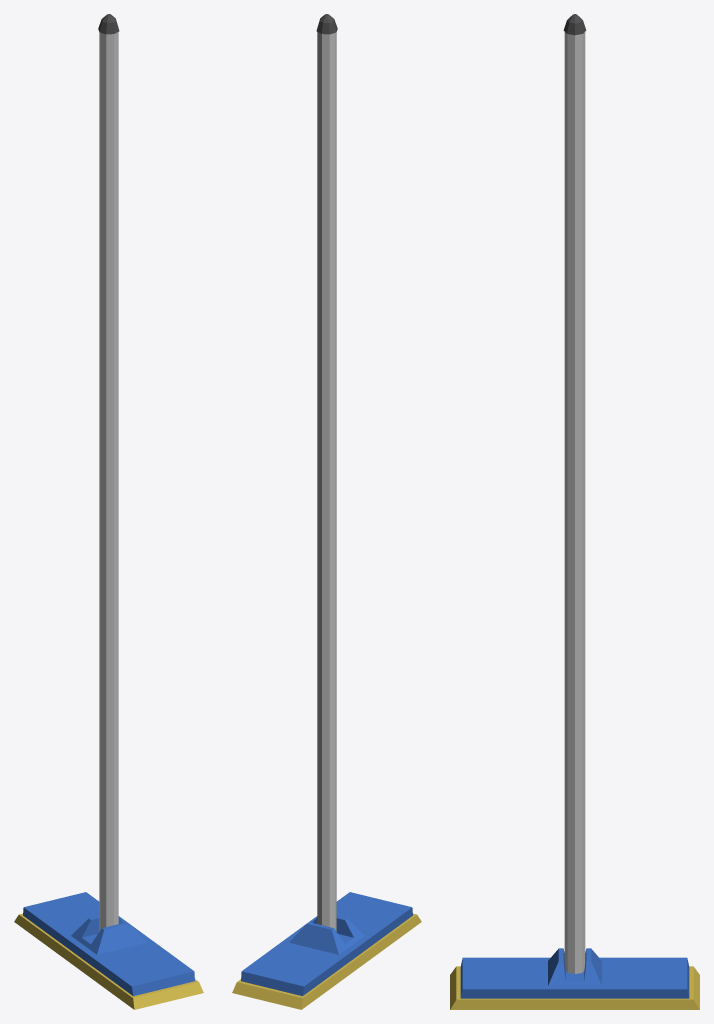
Rendered from Mop.fbx.
3 renders of one model, left to right at view 1: azimuth 30°, elevation 25°; view 2: azimuth 150°, elevation 25°; view 3: azimuth 270°, elevation 25°, orthographic. The views are drawn at different scales.
Visible parts, largest first — view 1: Mop, Mop Head; view 2: Mop, Mop Head; view 3: Mop, Mop Head.
Part boxes in pixels (<box>): Mop: <box>98,14,119,931</box>; Mop Head: <box>14,892,203,1009</box>; Mop: <box>316,14,337,931</box>; Mop Head: <box>232,892,421,1009</box>; Mop: <box>563,14,586,973</box>; Mop Head: <box>450,948,699,1009</box>.
Size of the model in its own units: 80 by 1037 by 240.
